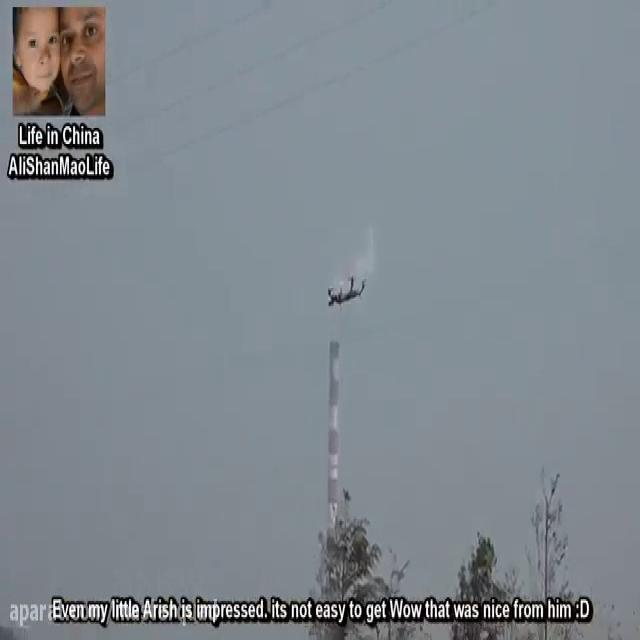drone: (324, 270, 368, 311)
